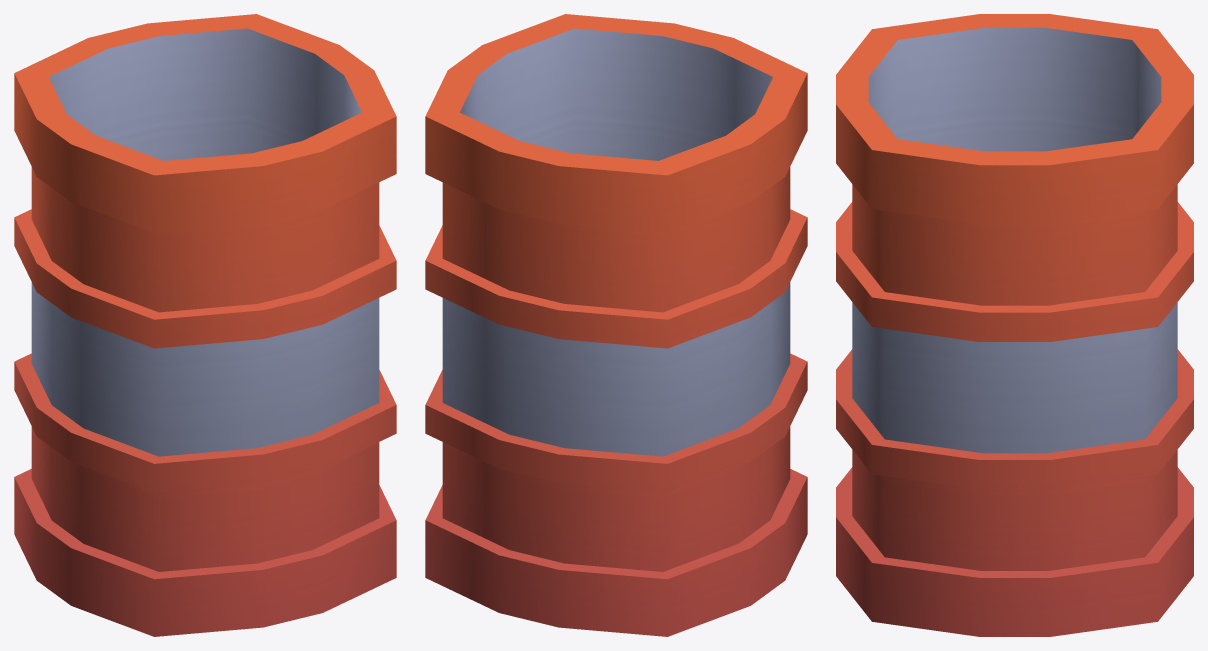
The model's file is barrel-open.obj.
3 renders of one model, left to right at view 1: azimuth 30°, elevation 25°; view 2: azimuth 150°, elevation 25°; view 3: azimuth 270°, elevation 25°, orthographic. The views are drawn at different scales.
Parts seen in each view (by area): view 1: barrel-open; view 2: barrel-open; view 3: barrel-open.
Boxes of the visible parts, x1,y1,x2,y2 form: barrel-open: [14, 14, 396, 636]; barrel-open: [425, 14, 807, 636]; barrel-open: [836, 14, 1193, 636].
Size of the model in its own units: 0.2365 by 0.344 by 0.2365.
1 material, 1 textured.
